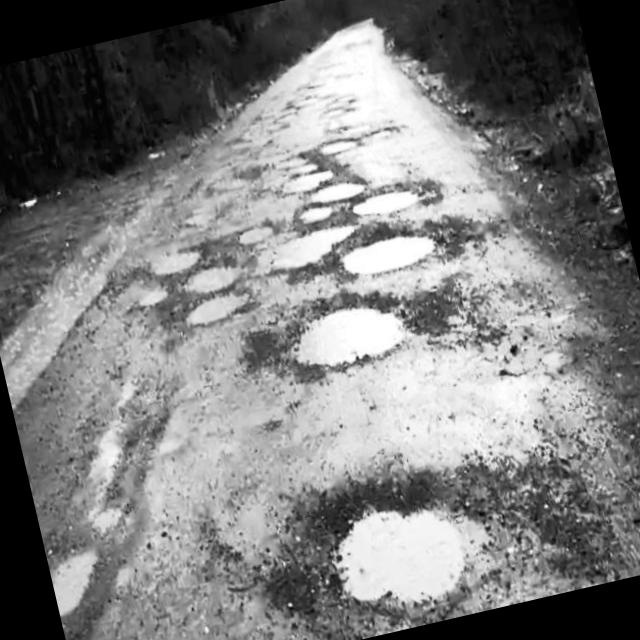Pothole: (315, 448, 490, 631), (276, 289, 412, 388), (154, 223, 258, 334), (273, 136, 347, 218), (40, 518, 100, 619), (339, 222, 438, 282), (350, 172, 440, 224), (268, 222, 342, 283)
